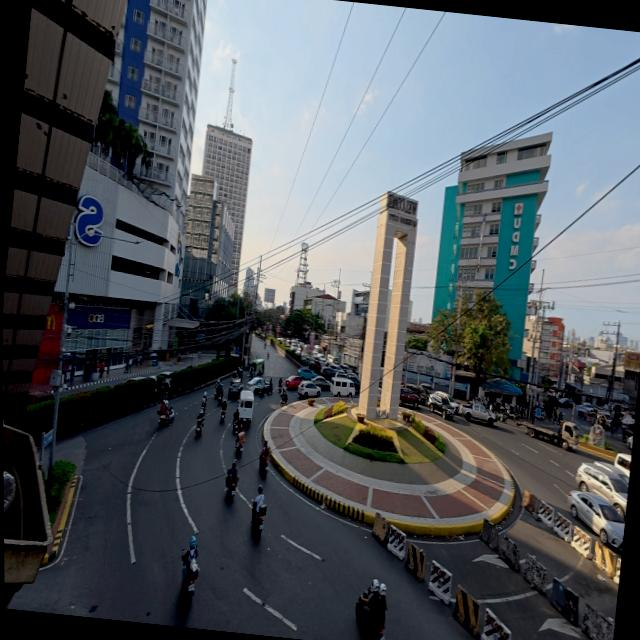car: (424, 389, 459, 417), (397, 385, 427, 409), (247, 375, 270, 396)
trucks: (460, 401, 496, 424)
